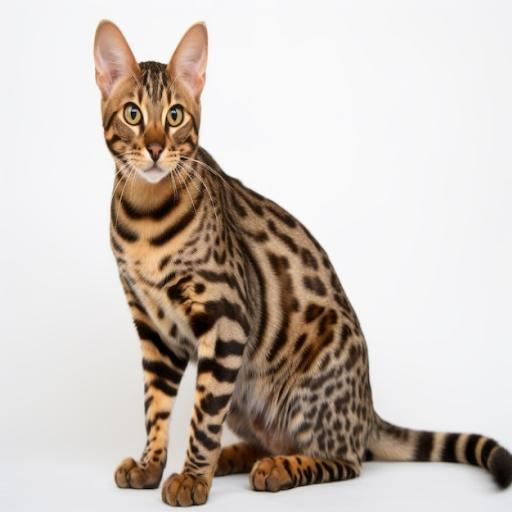cats: (93, 22, 511, 505)
